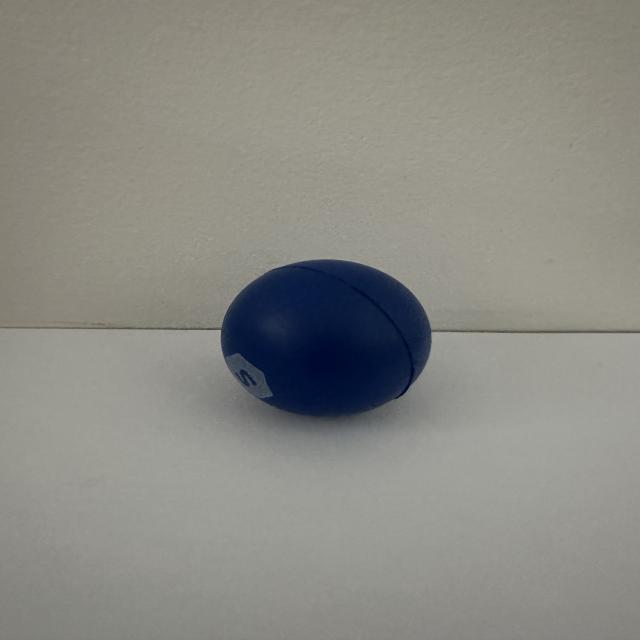blue_ball: (152, 168, 500, 495)
